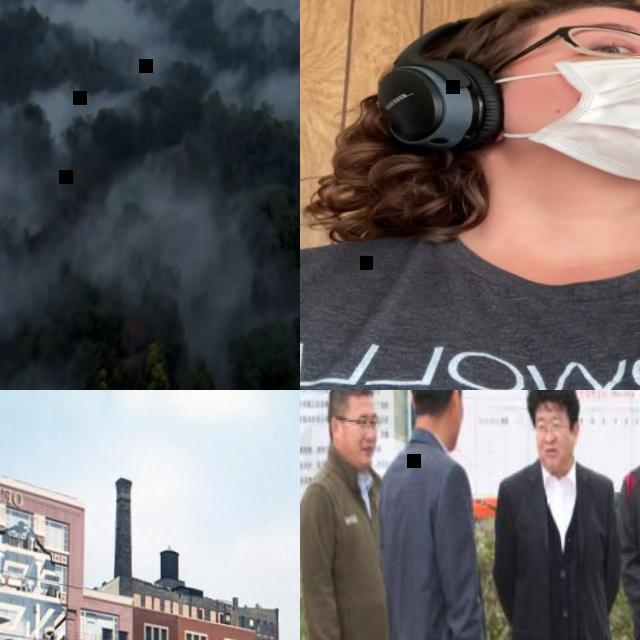mask: (492, 41, 640, 183)
no_helmet: (392, 0, 640, 63), (324, 390, 374, 414), (528, 390, 578, 410)
no_mask: (538, 440, 570, 470), (446, 408, 466, 449), (343, 439, 373, 466)
no_vest: (300, 223, 640, 390), (509, 468, 611, 640), (382, 442, 467, 640), (317, 468, 387, 640)
person: (300, 0, 640, 390), (487, 390, 625, 640), (372, 390, 487, 640), (300, 390, 399, 640)
